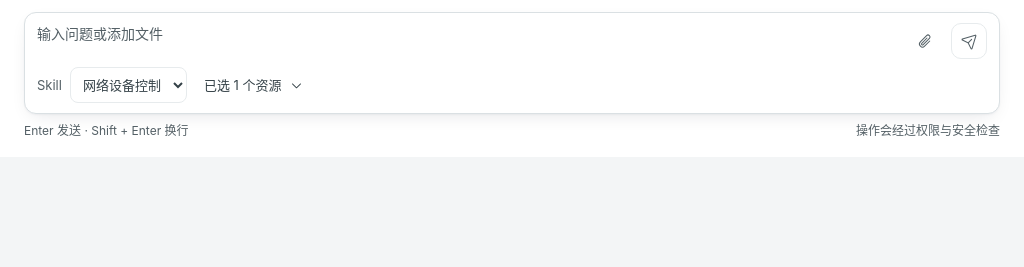
Scenario: WorkbenchComposer send contract › renders normal dropdown and interactive resource buttons when isSkillLocked is false
Expected: the dropdown is shown, [70,67,187,103]
Click the button "已选 1 个资源": click(253, 85) [195,67,312,103]
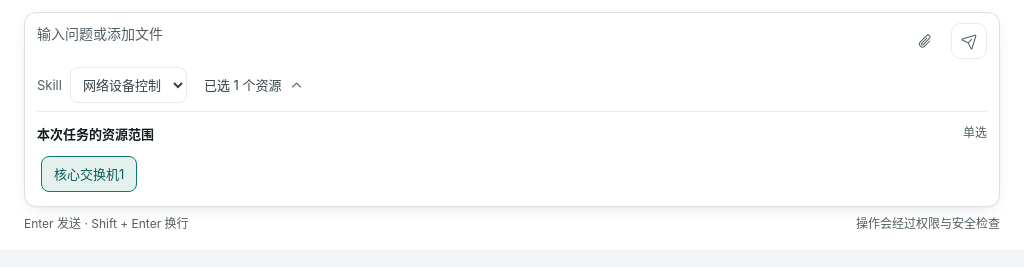
Expected: the button "核心交换机1" is shown, [41,156,137,192]
